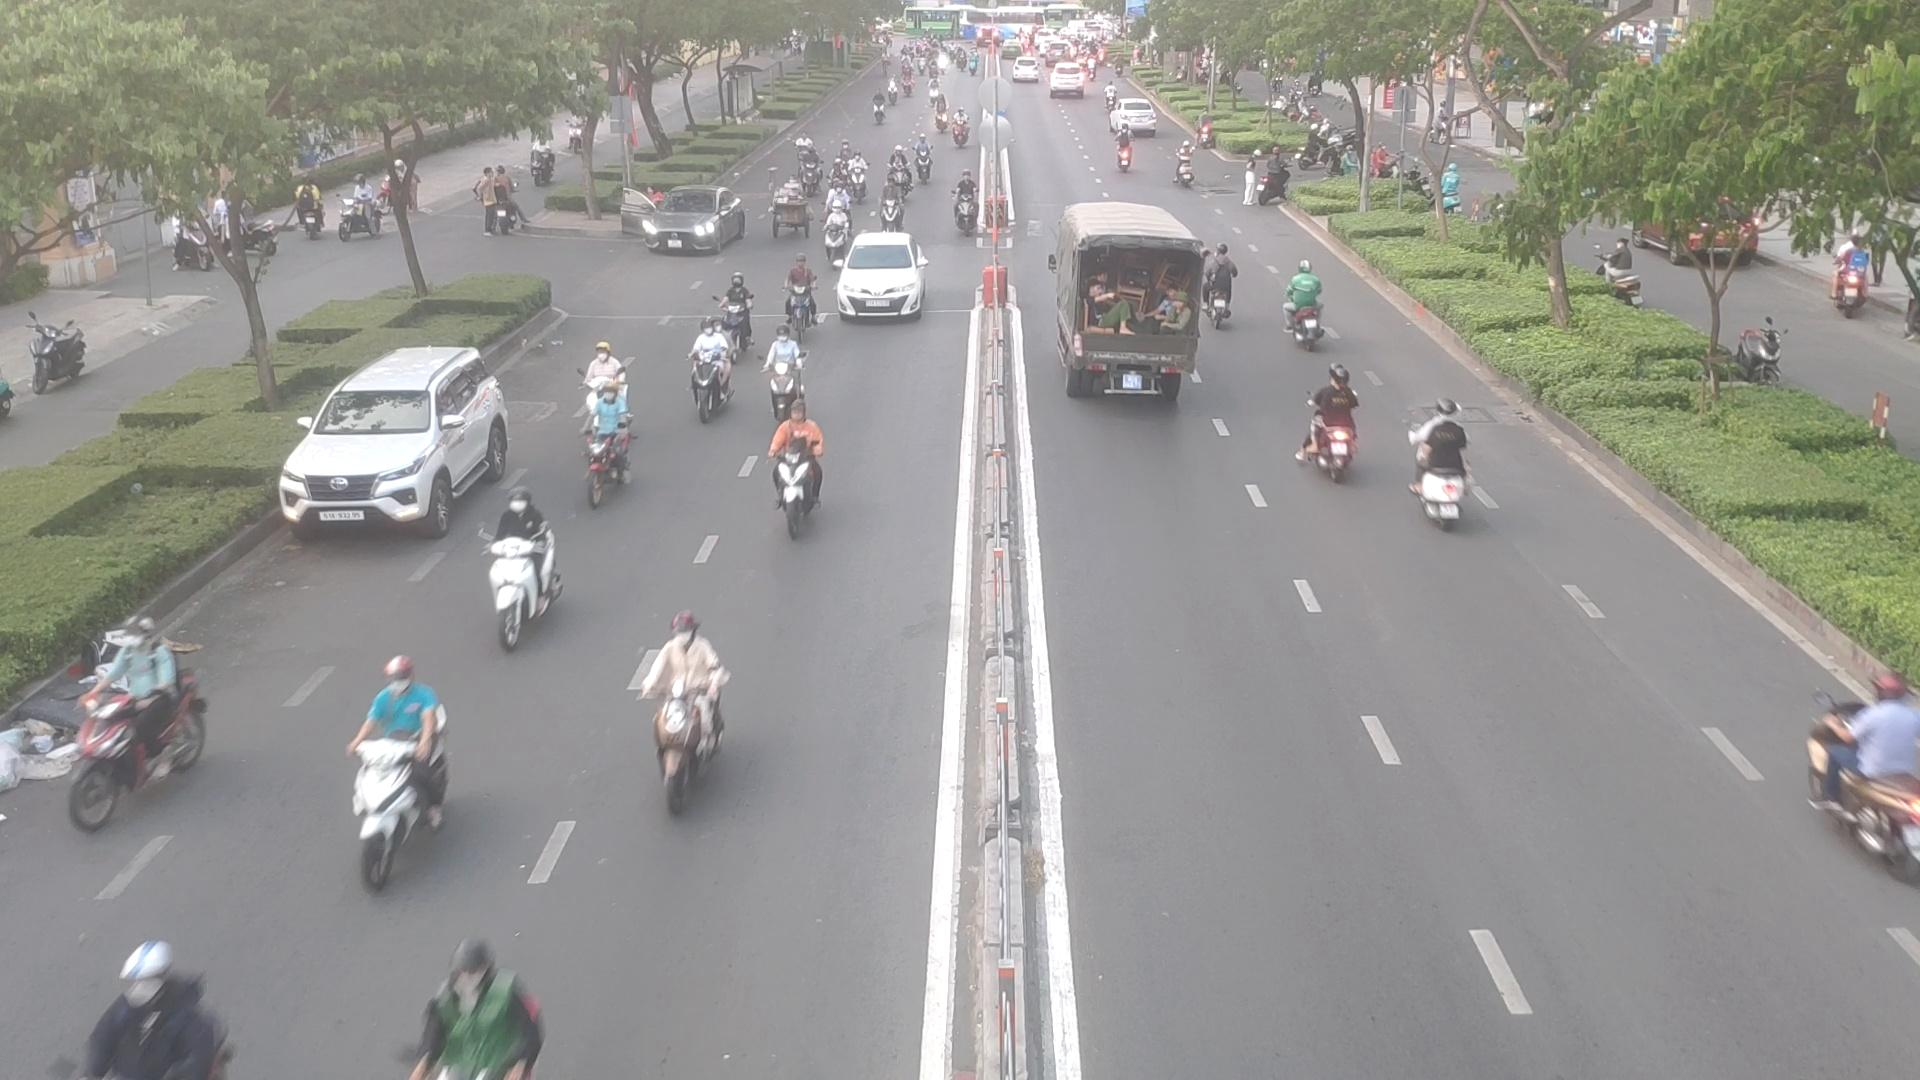car: (286, 349, 522, 541), (618, 191, 750, 258), (836, 239, 931, 327)
motorbike: (49, 613, 200, 822), (1795, 678, 1920, 885), (343, 663, 458, 884), (629, 622, 735, 803), (415, 942, 549, 1076), (473, 493, 571, 644), (764, 411, 843, 543), (1408, 404, 1478, 524), (579, 381, 644, 506), (1302, 375, 1371, 472), (1274, 262, 1337, 349), (686, 330, 738, 419), (1199, 240, 1240, 334), (766, 335, 815, 407), (707, 278, 753, 352), (785, 261, 825, 338), (825, 212, 855, 258), (876, 193, 905, 237), (952, 189, 980, 235), (1106, 133, 1139, 171), (802, 156, 829, 194), (884, 160, 910, 199), (916, 146, 940, 185)
